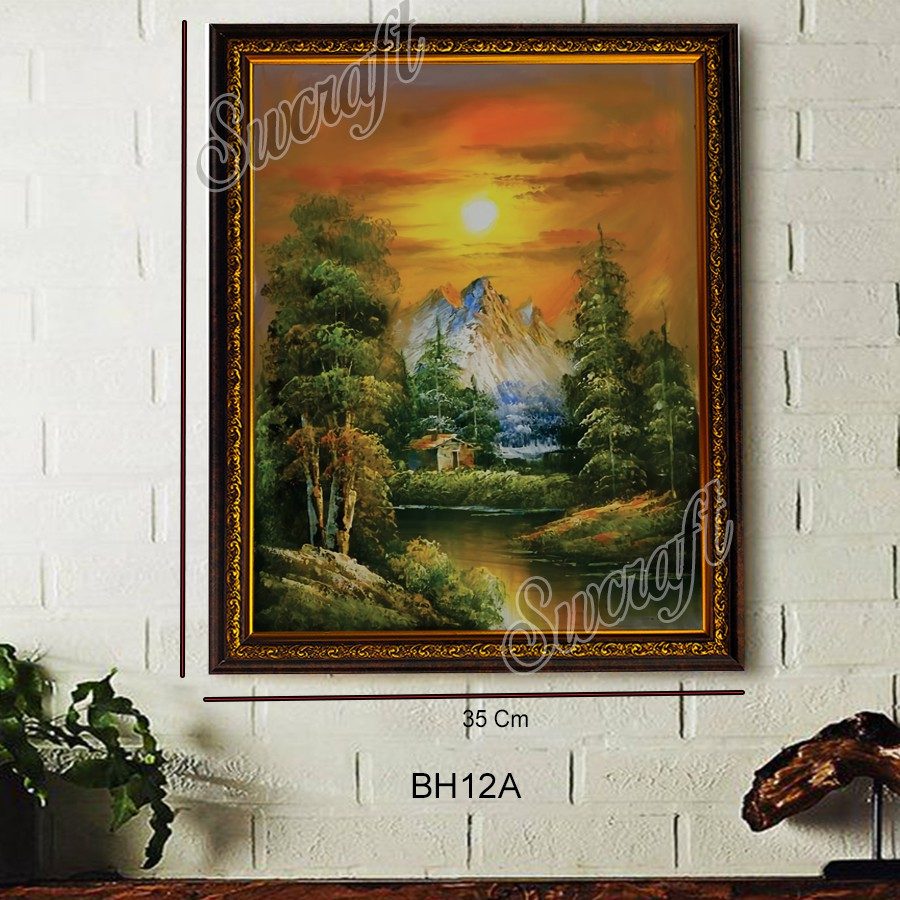lukisan: (192, 20, 754, 680)
